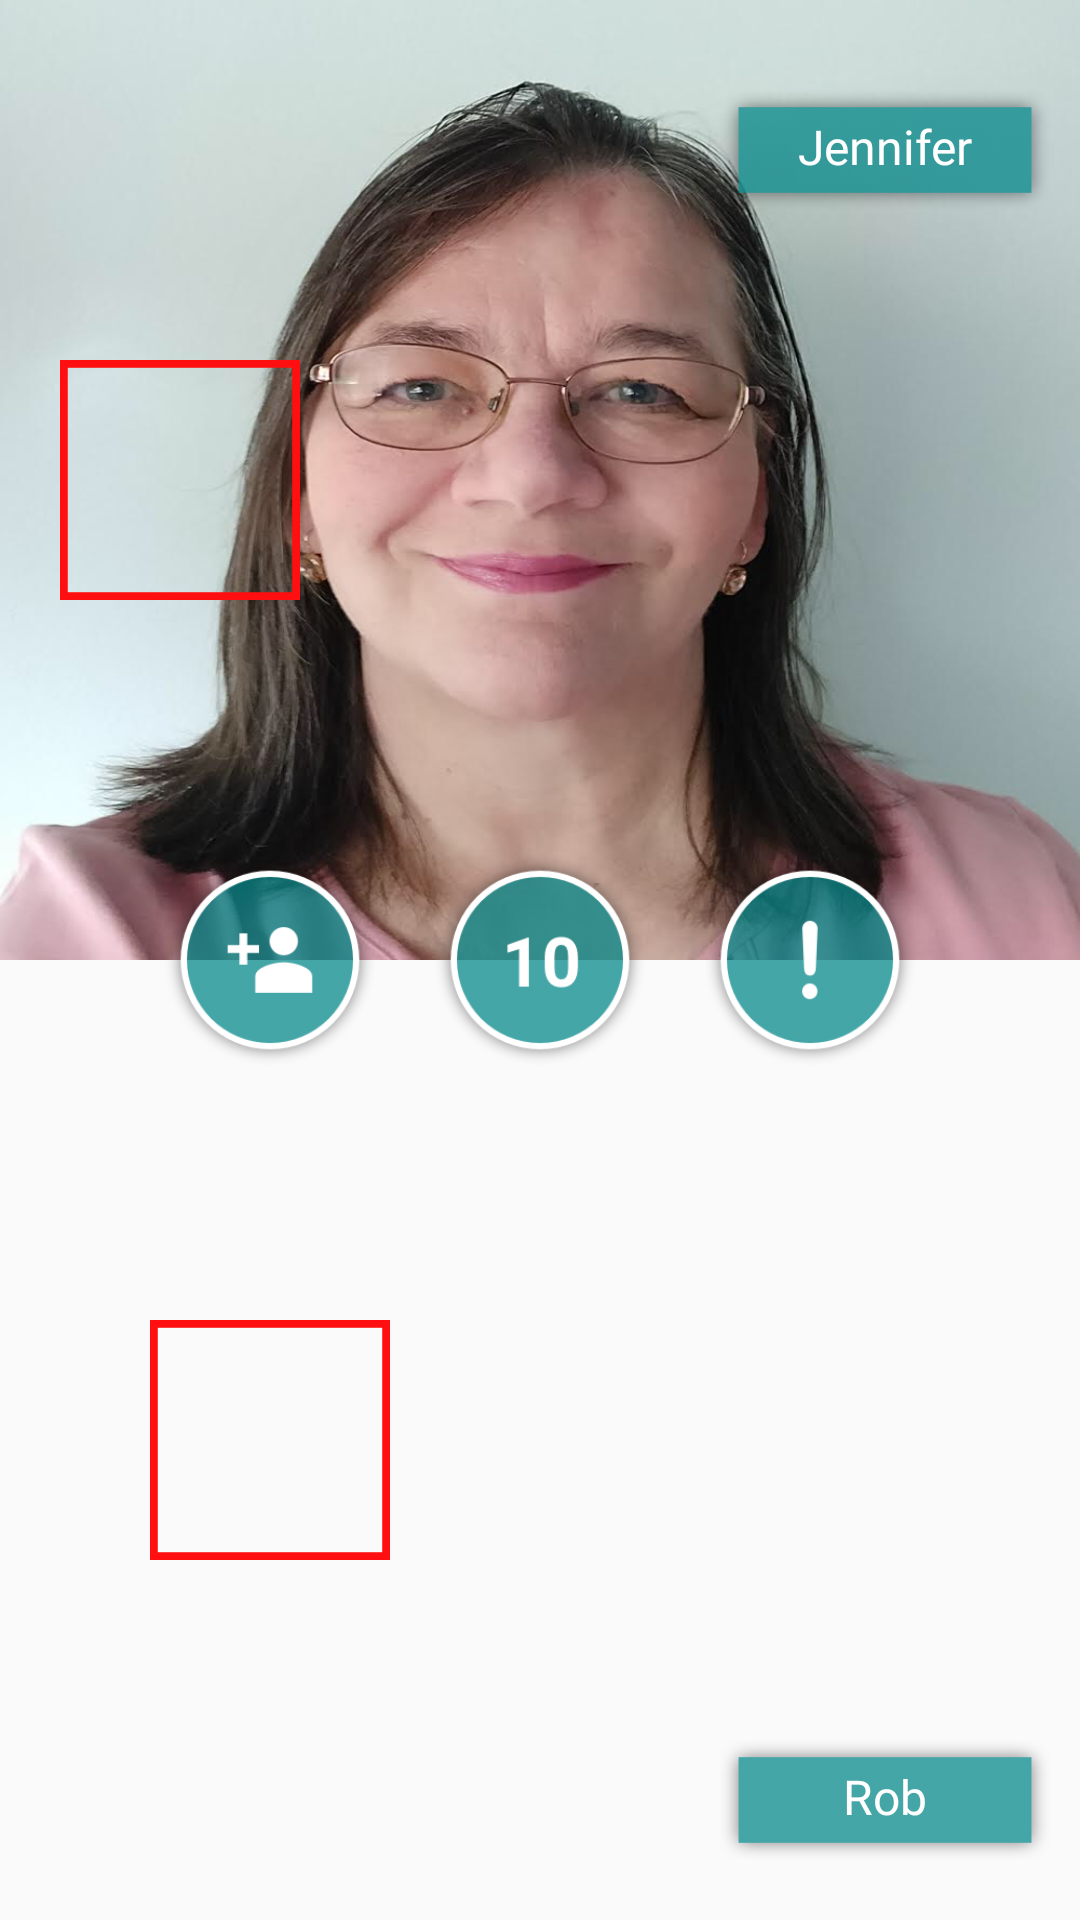

Screen size 1080 × 1920. Icon name, then its center in pixels as point (x, y):
add user: point (270, 960)
